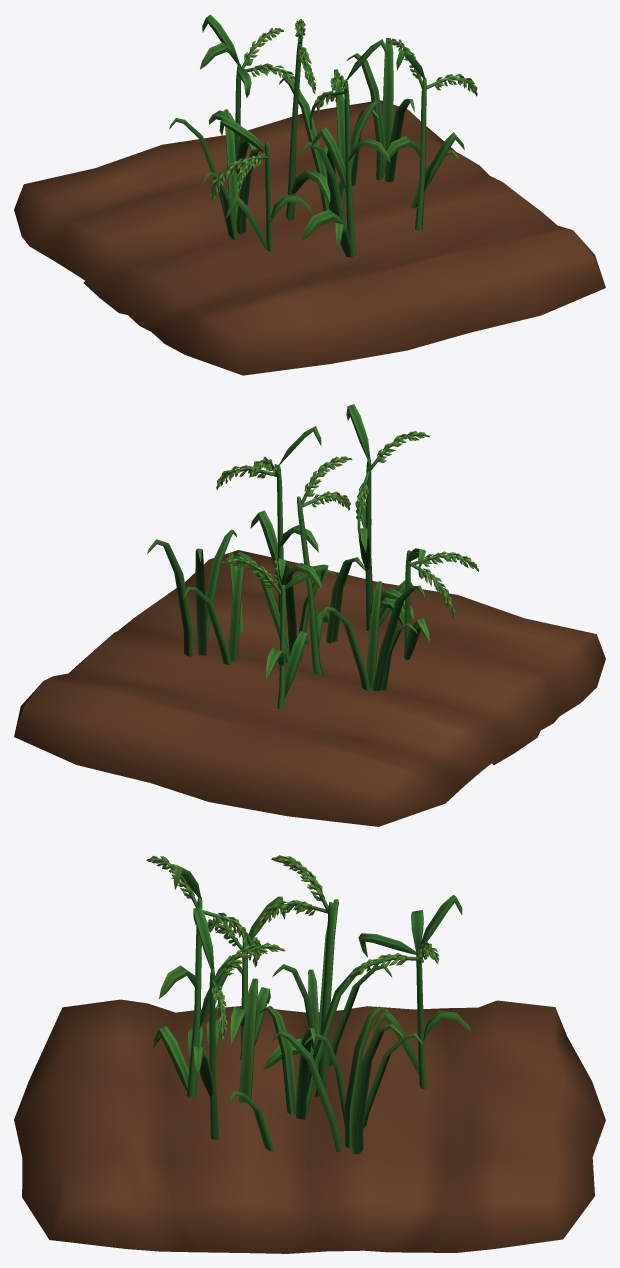
The model's file is SM_PlantSoil_Rice_Lv2.fbx.
3 renders of one model, top to bottom at view 1: azimuth 30°, elevation 25°; view 2: azimuth 150°, elevation 25°; view 3: azimuth 270°, elevation 25°, orthographic. The views are drawn at different scales.
Visible parts, largest first — view 1: SM_PlantSoil_Rice_Lv2; view 2: SM_PlantSoil_Rice_Lv2; view 3: SM_PlantSoil_Rice_Lv2.
Part boxes in pixels (x1=…): SM_PlantSoil_Rice_Lv2: x1=14, y1=14, x2=605, y2=375; SM_PlantSoil_Rice_Lv2: x1=14, y1=404, x2=605, y2=826; SM_PlantSoil_Rice_Lv2: x1=14, y1=855, x2=605, y2=1253.
Bounding box in the file's own units: 96.14 × 57.26 × 103.
